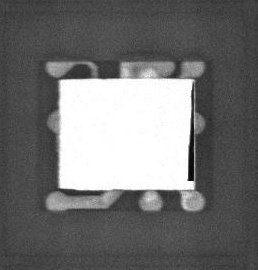DIE_BROKEN: (186, 82, 196, 184)
